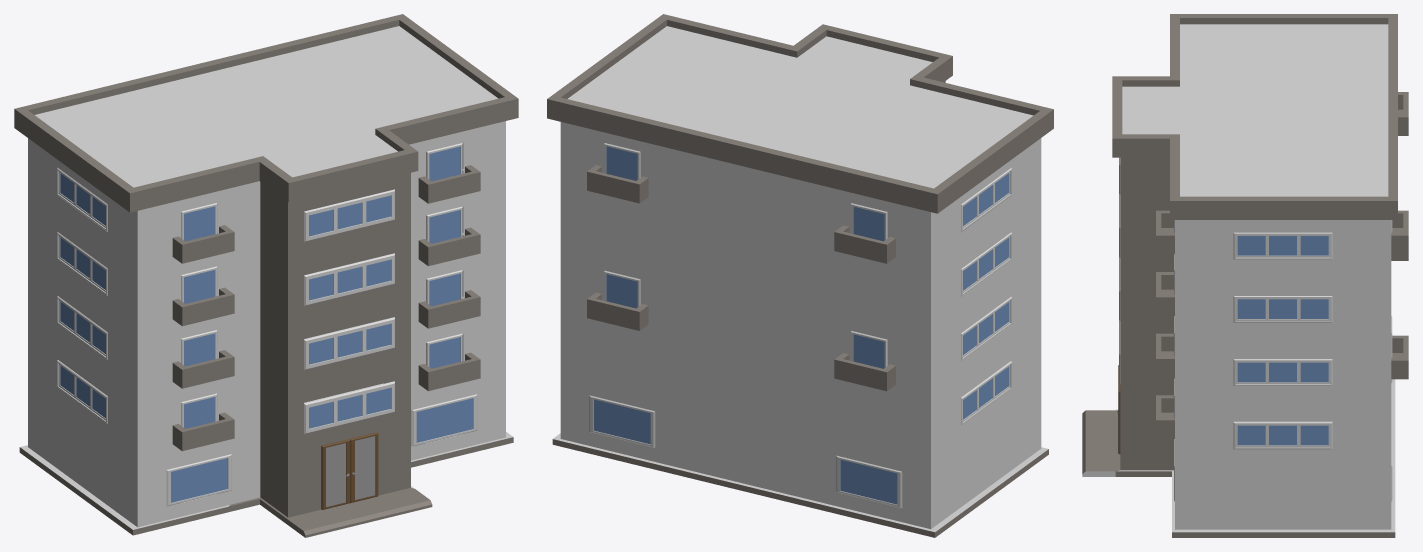
File: BUILDING-3.glb
The picture shows the model from 3 angles, left to right: view 1: azimuth 30°, elevation 25°; view 2: azimuth 150°, elevation 25°; view 3: azimuth 270°, elevation 25°; orthographic projection.
Parts seen in each view (by area): view 1: Plane.052; view 2: Plane.052; view 3: Plane.052.
Part boxes in pixels (x1,y1,x2,y2): Plane.052: [14, 14, 518, 537]; Plane.052: [547, 14, 1053, 537]; Plane.052: [1082, 14, 1408, 537].
Size of the model in its own units: 5.01 by 4.24 by 3.7.
